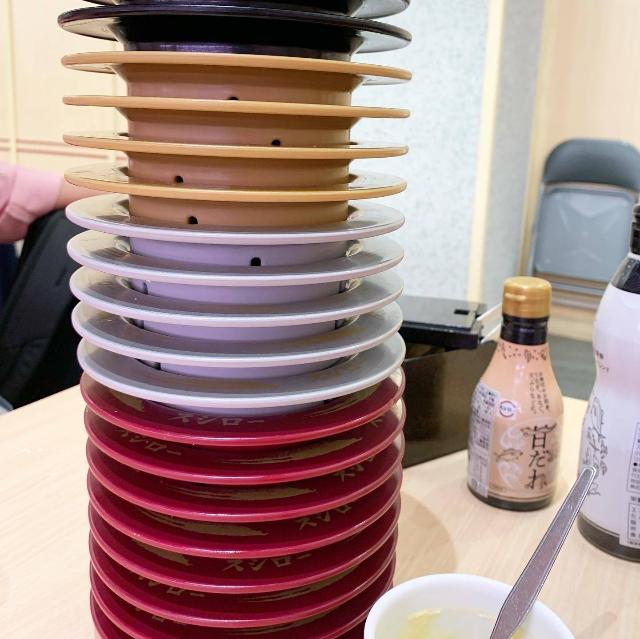janback: (45, 0, 422, 61), (53, 2, 413, 26)
jangold: (25, 44, 406, 101), (48, 120, 399, 175), (54, 165, 427, 216), (43, 88, 427, 134)
janred: (84, 430, 382, 490), (69, 477, 418, 521), (75, 405, 412, 446), (81, 557, 438, 595), (75, 521, 433, 558), (81, 590, 426, 626), (60, 615, 415, 639)
janwhite: (55, 196, 406, 258), (68, 354, 422, 408), (63, 282, 405, 328), (68, 243, 398, 290), (71, 319, 407, 361)
